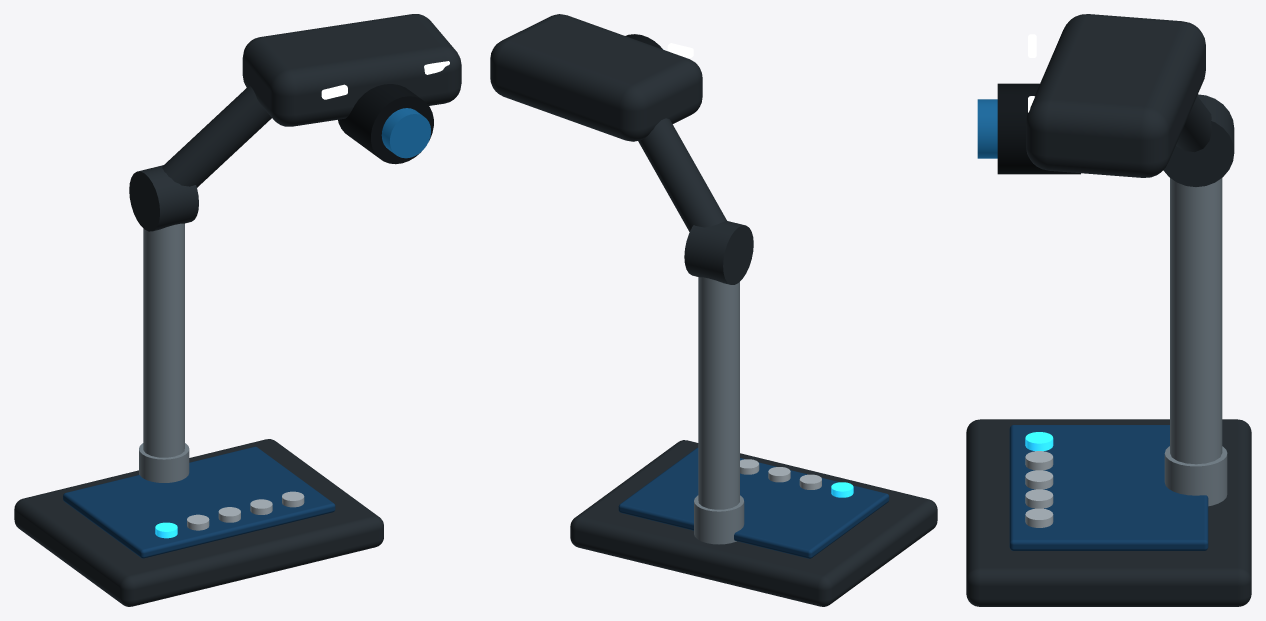
The model's file is document-camera.glb.
3 views of the same model, side by side, from view 1: azimuth 30°, elevation 25°; view 2: azimuth 150°, elevation 25°; view 3: azimuth 270°, elevation 25° (orthographic). The views are drawn at different scales.
Visible parts, largest first — view 1: Weighted camera base, Camera head, Premium document visualizer camera, Touch control surface, Document lens, Upper arm joint, Arm pivot; view 2: Weighted camera base, Camera head, Premium document visualizer camera, Touch control surface, Upper arm joint, Arm pivot; view 3: Weighted camera base, Camera head, Touch control surface, Premium document visualizer camera, Upper arm joint, Document lens, Document camera control (×5), Arm pivot.
Boxes of the visible parts, x1=… form: Weighted camera base: x1=14, y1=439, x2=383, y2=606; Camera head: x1=242, y1=14, x2=461, y2=126; Premium document visualizer camera: x1=143, y1=86, x2=430, y2=457; Touch control surface: x1=63, y1=446, x2=335, y2=558; Document lens: x1=338, y1=84, x2=433, y2=164; Upper arm joint: x1=129, y1=165, x2=198, y2=231; Arm pivot: x1=139, y1=443, x2=189, y2=482; Weighted camera base: x1=570, y1=440, x2=937, y2=606; Camera head: x1=490, y1=14, x2=702, y2=141; Premium document visualizer camera: x1=638, y1=118, x2=739, y2=509; Touch control surface: x1=618, y1=448, x2=889, y2=558; Upper arm joint: x1=684, y1=221, x2=753, y2=284; Arm pivot: x1=694, y1=495, x2=744, y2=544; Weighted camera base: x1=966, y1=419, x2=1251, y2=606; Camera head: x1=1026, y1=14, x2=1205, y2=177; Touch control surface: x1=1009, y1=425, x2=1208, y2=550; Premium document visualizer camera: x1=977, y1=96, x2=1222, y2=464; Upper arm joint: x1=1163, y1=94, x2=1234, y2=186; Document lens: x1=997, y1=83, x2=1080, y2=174; Document camera control (×5): x1=1025, y1=432, x2=1053, y2=527; Arm pivot: x1=1164, y1=446, x2=1227, y2=506.
Size of the model in its own units: 1.56 by 1.79 by 0.82.
